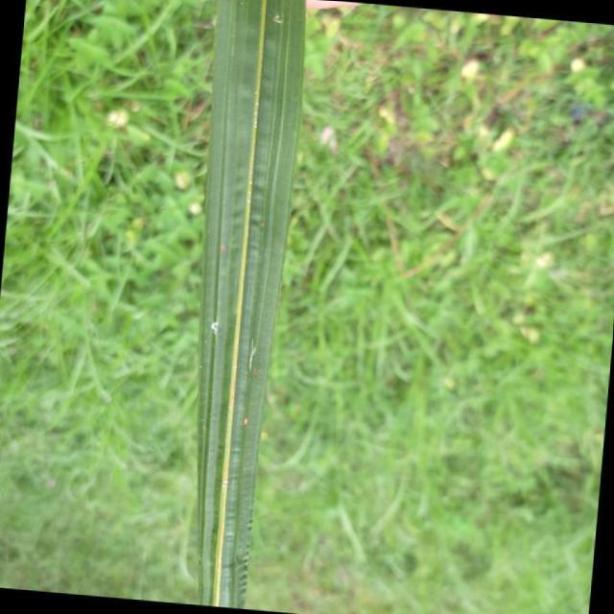Boron: (189, 0, 305, 614)
